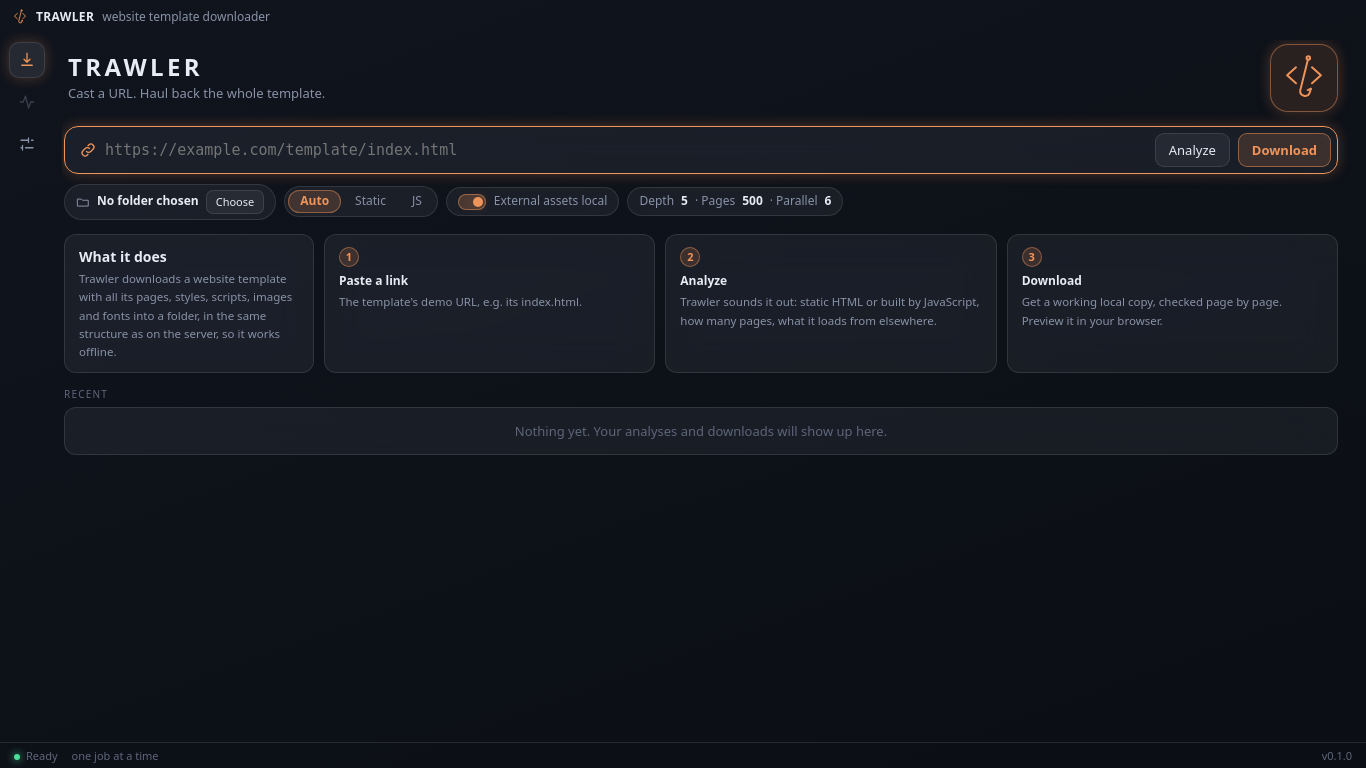
Scenario: Start screen › asks what to do when the output folder is not empty
Later steps or results of the test are not shown.
Step 1. Type "example.com" into the field named "Template URL" → [626, 150], box [105,133,1147,167]
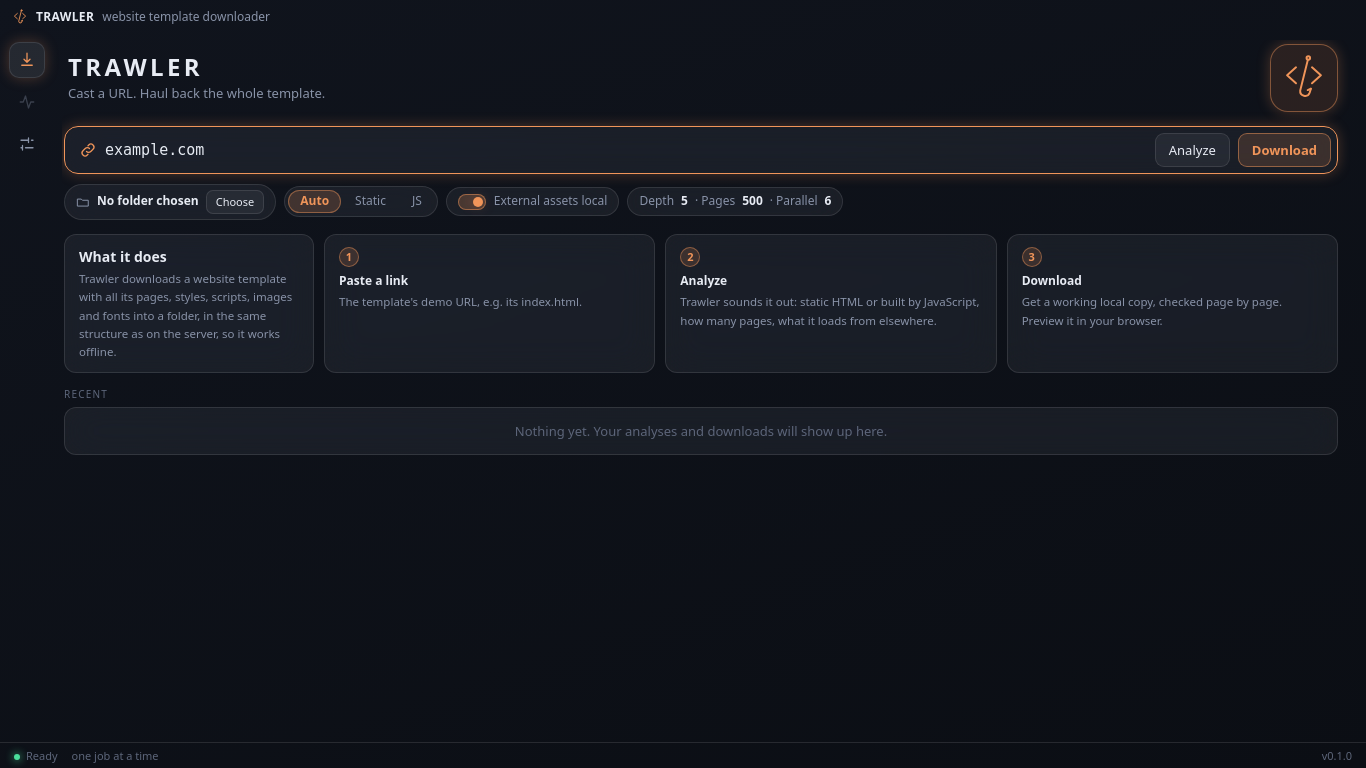
Step 2. Click the button with aria-label "Choose output folder" → [235, 202], box [206,190,264,214]
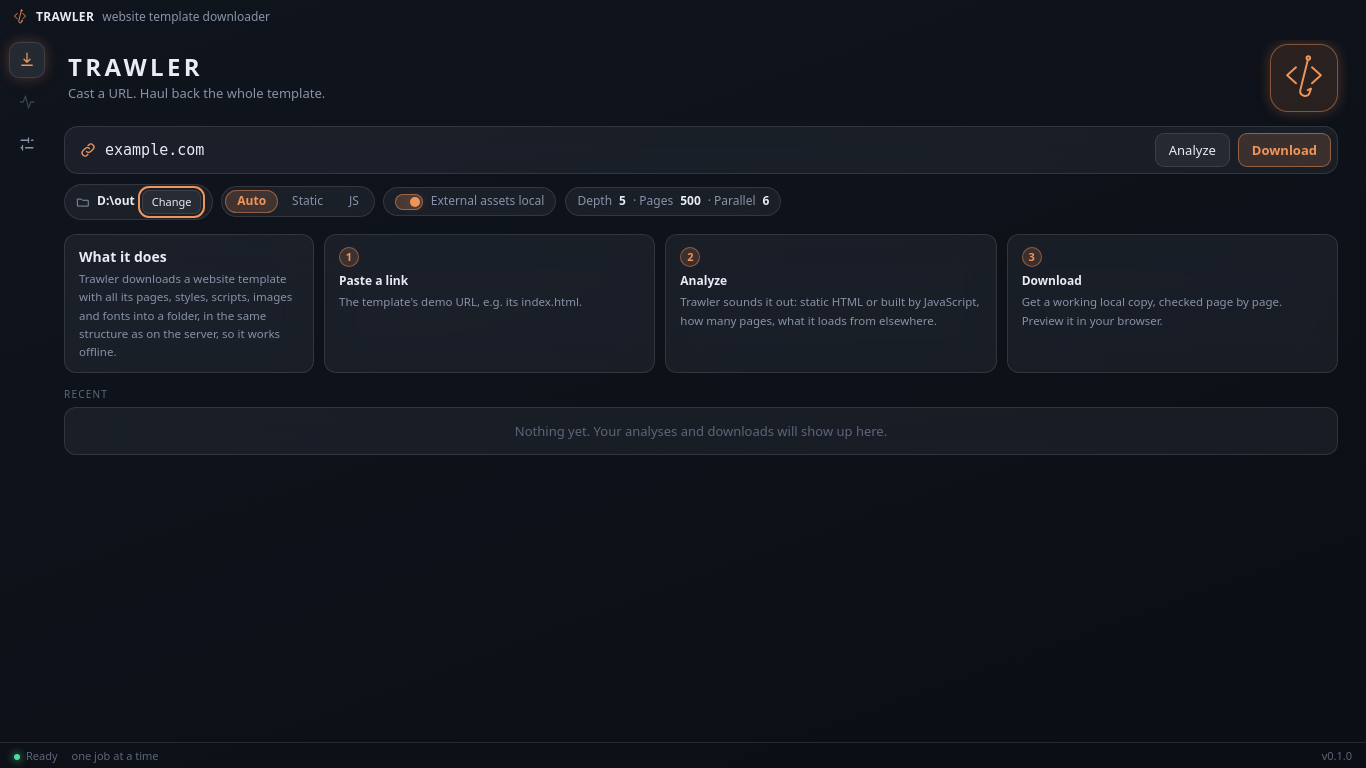
Expected: the text "D:\\out" is shown, [97,194,135,210]
